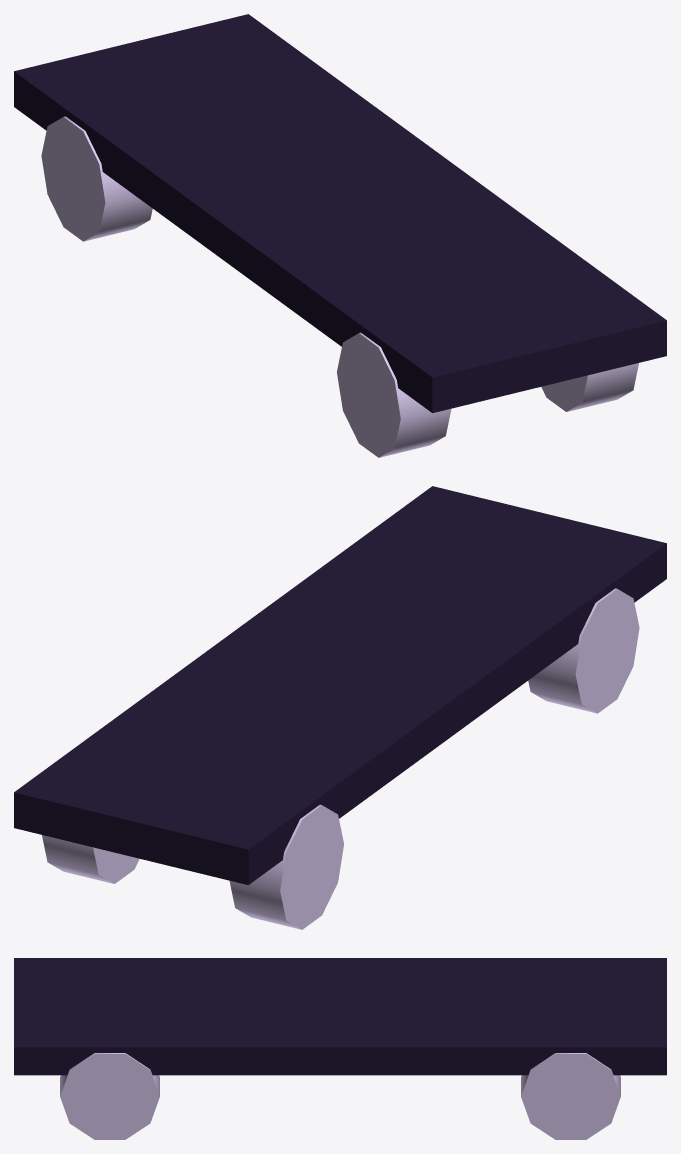
File: skateboard.glb
3 renders of one model, top to bottom at view 1: azimuth 30°, elevation 25°; view 2: azimuth 150°, elevation 25°; view 3: azimuth 270°, elevation 25°, orthographic. The views are drawn at different scales.
Parts seen in each view (by area): view 1: deck, wheel_0, wheel_2, wheel_1; view 2: deck, wheel_2, wheel_0, wheel_3; view 3: deck, wheel_1, wheel_3.
Boxes of the visible parts, left/top/right/bottom form: deck: left=14, top=14, right=666, bottom=413; wheel_0: left=337, top=332, right=451, bottom=457; wheel_2: left=41, top=116, right=152, bottom=241; wheel_1: left=541, top=363, right=638, bottom=411; deck: left=14, top=486, right=666, bottom=885; wheel_2: left=229, top=804, right=343, bottom=929; wheel_0: left=528, top=588, right=639, bottom=713; wheel_3: left=42, top=835, right=139, bottom=883; deck: left=14, top=958, right=666, bottom=1075; wheel_1: left=60, top=1053, right=159, bottom=1139; wheel_3: left=521, top=1053, right=620, bottom=1139.
Bounding box in the file's own units: 0.56 × 0.2636 × 1.7.
